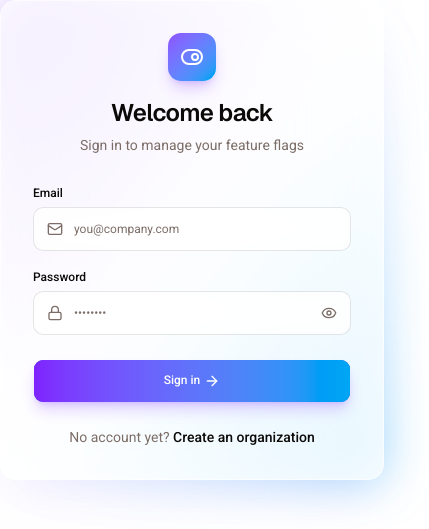
it: LoginForm › shows the pending state while signing in
Type "me@acme.com" into the field labelled "Email".
click(192, 229); type("me@acme.com")  # box [33,207,351,251]
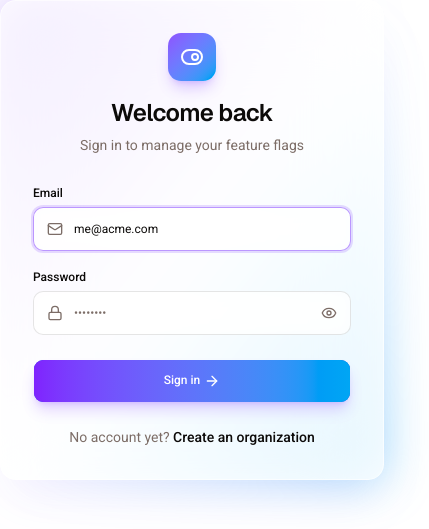
Type "secret-123" into the password field labelled "Password".
click(192, 313); type("secret-123")  # box [33,291,351,335]
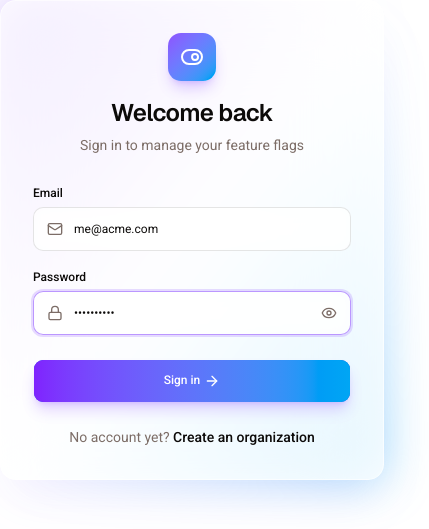
Click the button "Sign in".
click(192, 381)  # box [33,359,351,403]
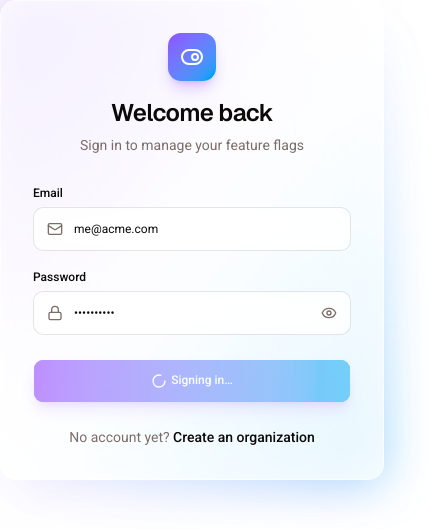
Check: the button "Signing in…" is disabled, box [33,359,351,403]
